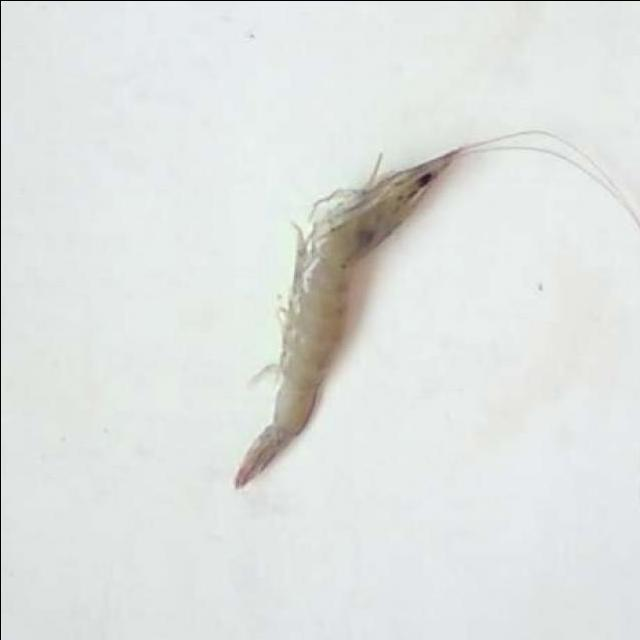shrimp: (234, 129, 640, 488)
